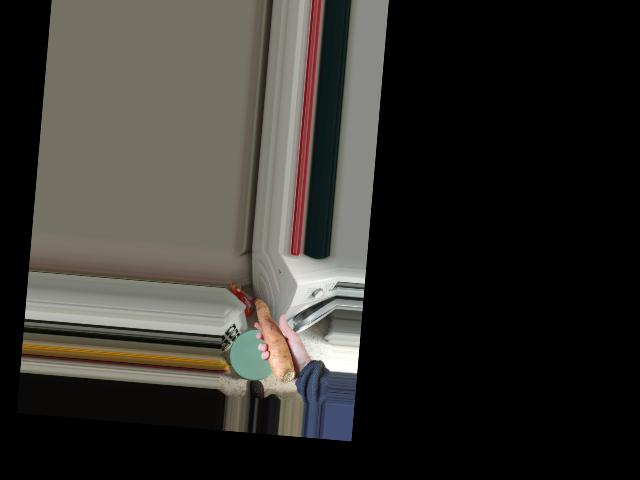sweet_potato: (244, 292, 304, 384)
